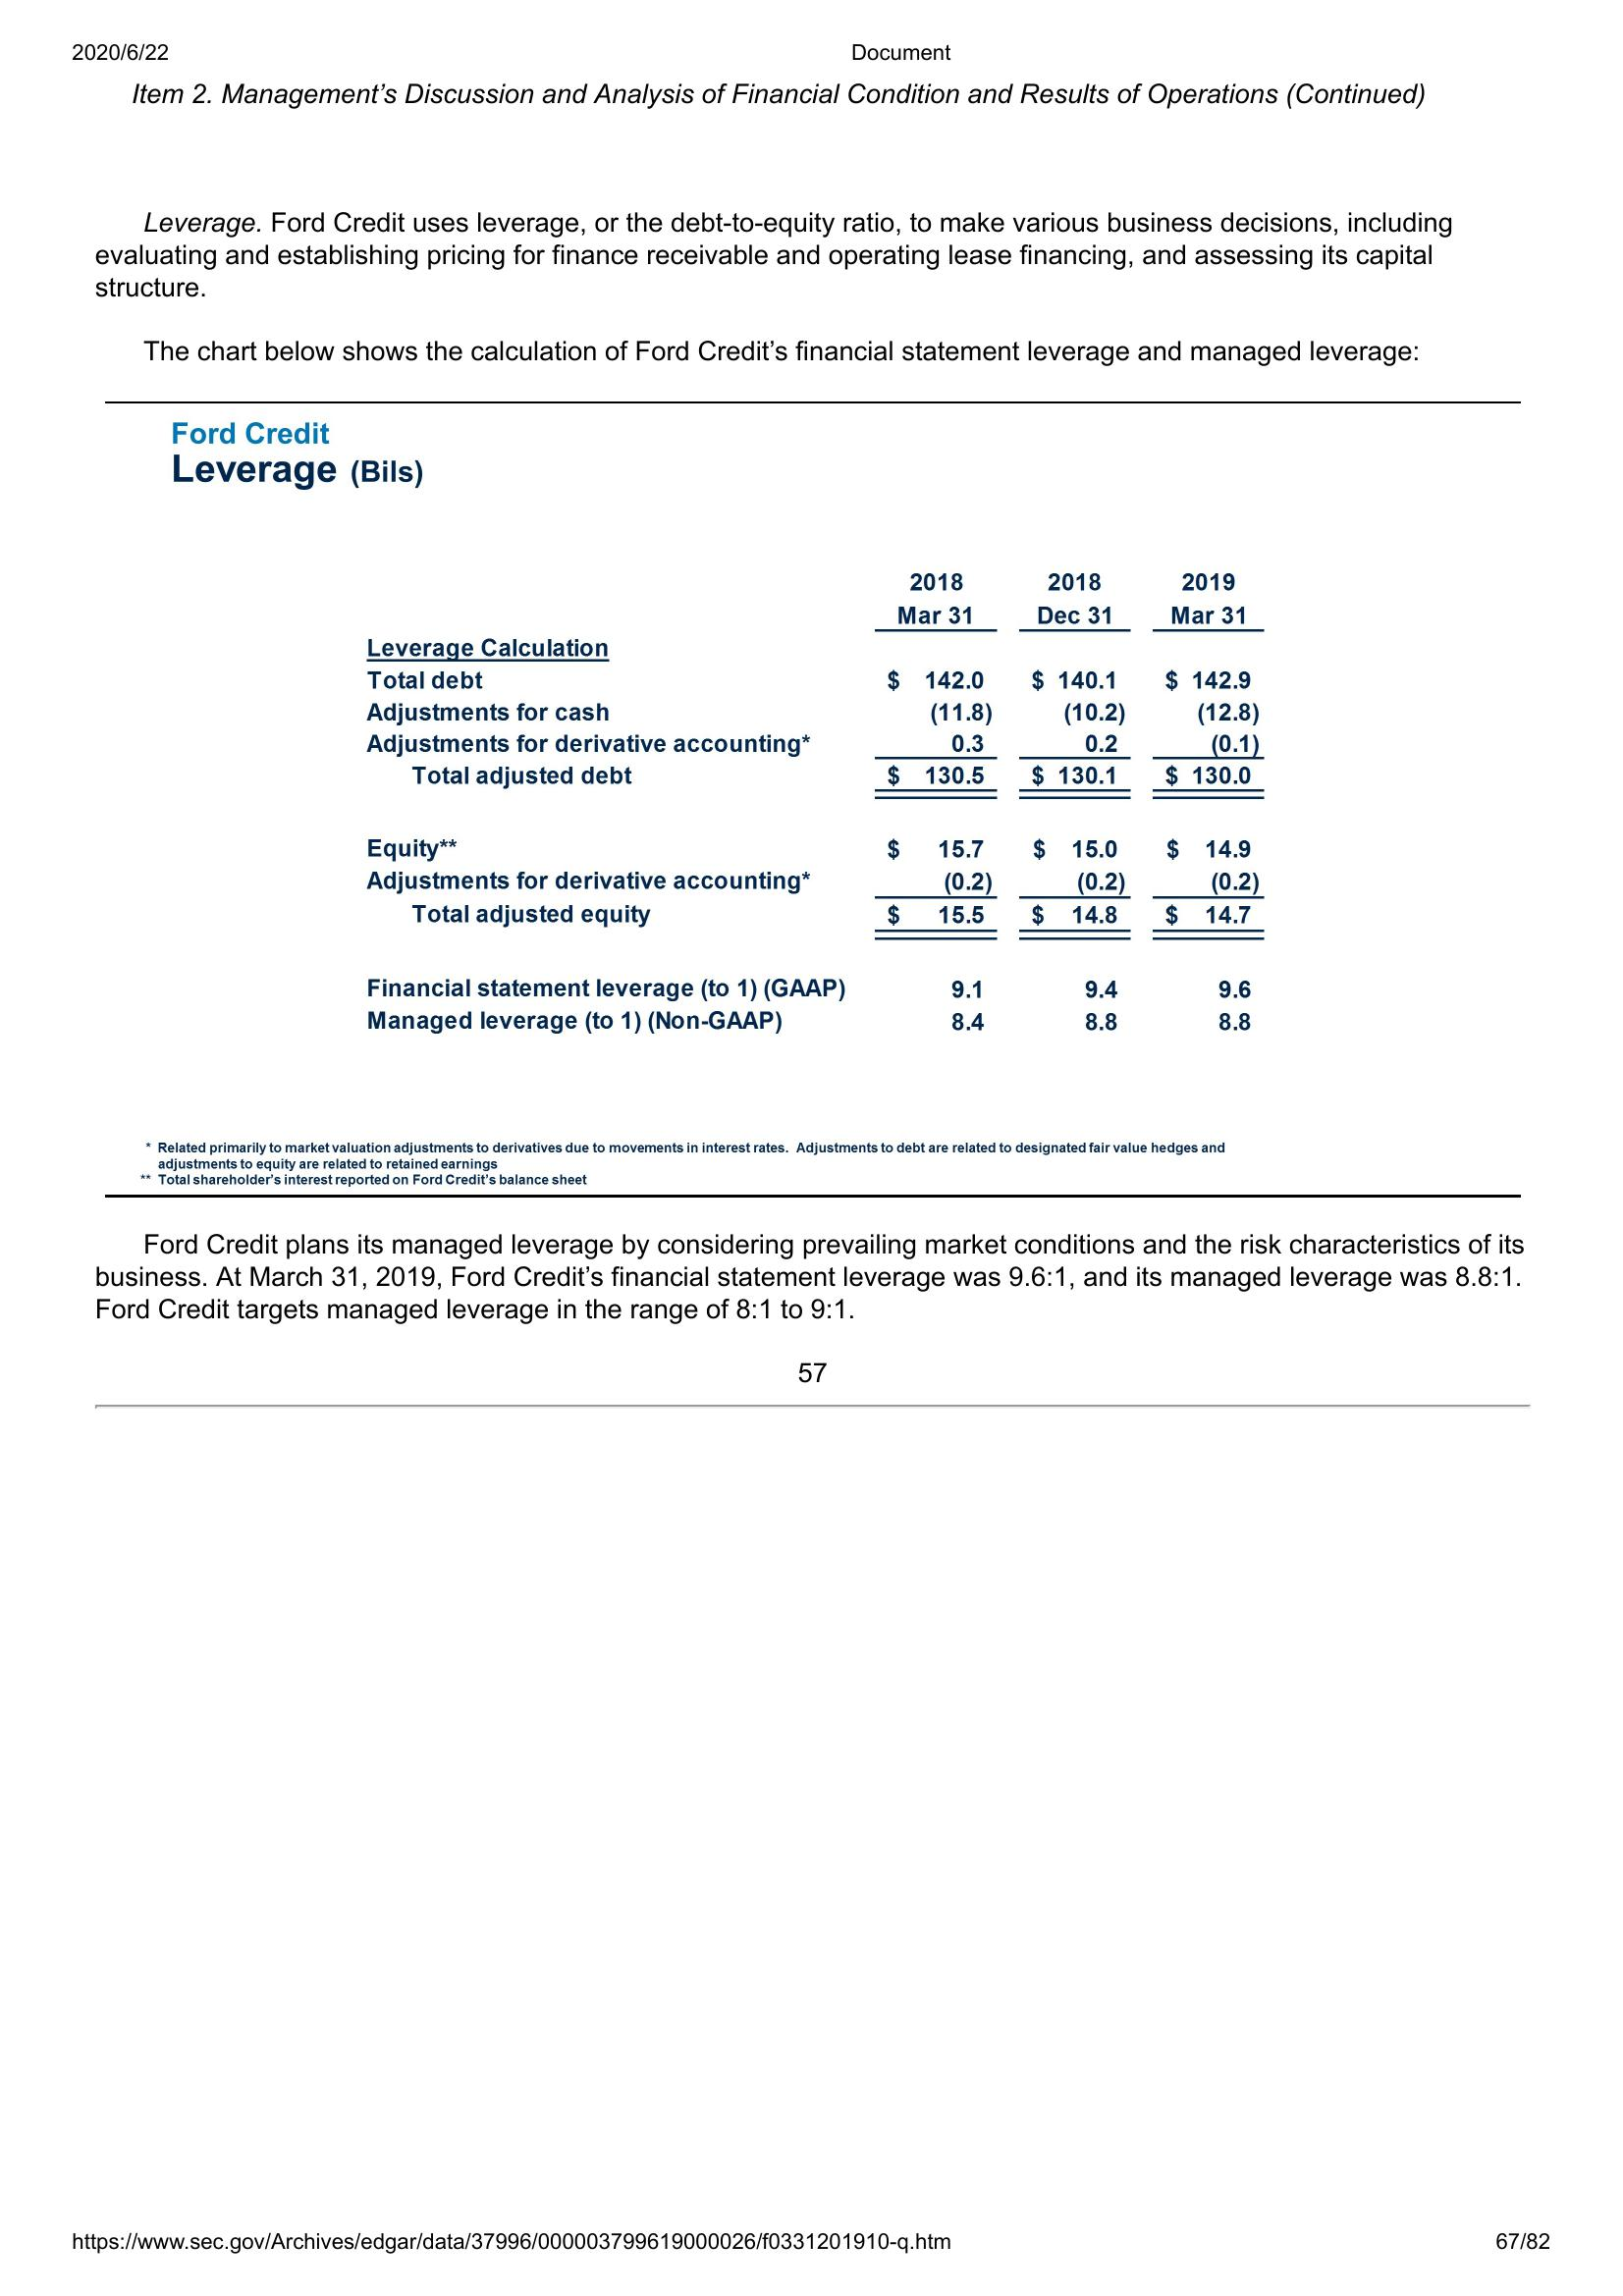table: (360, 565, 1272, 1039)
